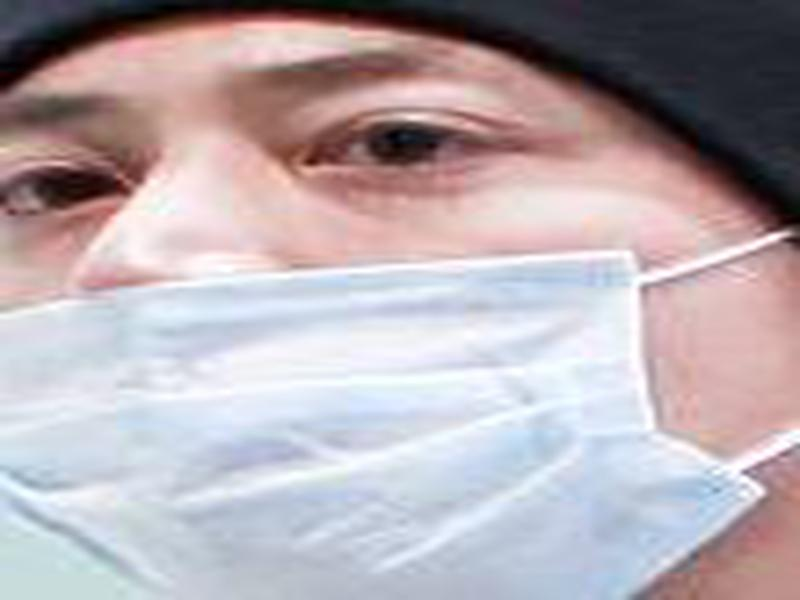with_mask: (1, 2, 799, 600)
